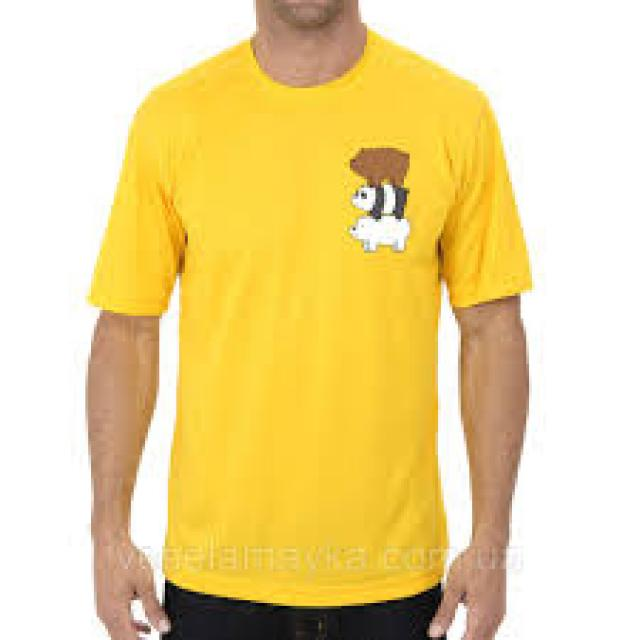Shirt: (86, 35, 527, 607)
